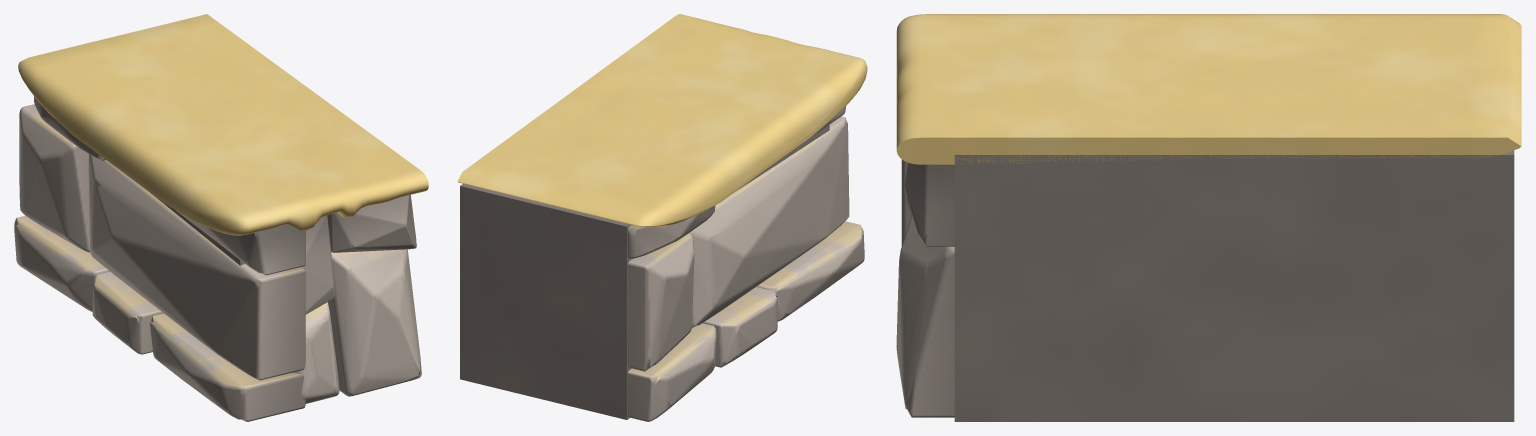
The model's file is CC_T02_SandCliffEnd_L.fbx.
3 renders of one model, left to right at view 1: azimuth 30°, elevation 25°; view 2: azimuth 150°, elevation 25°; view 3: azimuth 270°, elevation 25°, orthographic. The views are drawn at different scales.
Parts seen in each view (by area): view 1: Rock, SandCap; view 2: Rock, SandCap; view 3: Rock, SandCap.
Part boxes in pixels (x1,y1,x2,y2): Rock: [14, 96, 421, 421]; SandCap: [18, 14, 428, 235]; Rock: [460, 106, 864, 421]; SandCap: [457, 14, 867, 227]; Rock: [896, 150, 1514, 421]; SandCap: [896, 14, 1521, 164].
Size of the model in its own units: 2 by 2.01 by 3.99.
